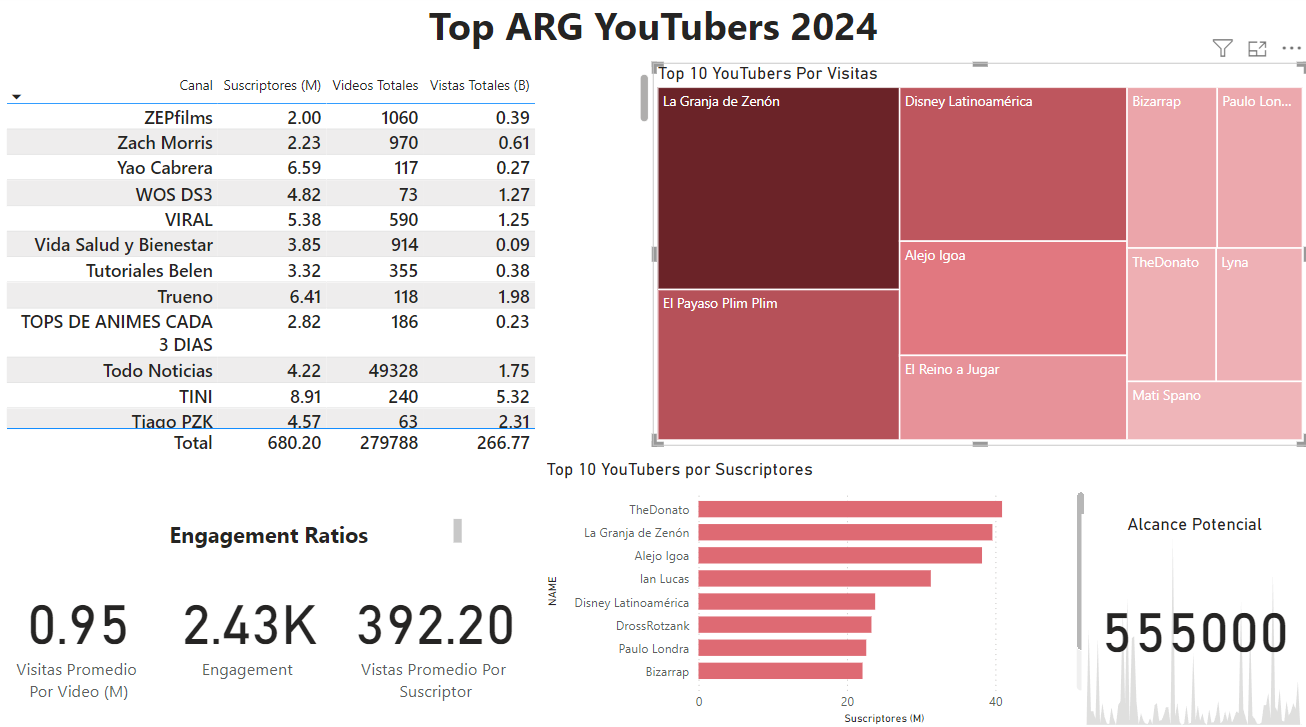

The dashboard page shown, as its layout file describes it:
{"tool":"powerbi","page":{"name":"Page 1","canvas":[1280,720],"ordinal":0},"visuals":[{"type":"textbox","box":[397.4,0,485.5,63.6],"z":0},{"type":"tableEx","fields":{"Values":["Limpio_view_top_100_ARG.NAME","Limpio_view_top_100_ARG.Suscriptores (M)","Limpio_view_top_100_ARG.Videos Totales","Limpio_view_top_100_ARG.Vistas Totales (B)"]},"box":[1.2,73.4,639.5,381.5],"z":1000},{"type":"treemap","title":"Top 10 YouTubers Por Visitas","fields":{"Group":["Limpio_view_top_100_ARG.NAME"],"Values":["Limpio_view_top_100_ARG.Vistas Totales (B)"]},"box":[639.5,67.3,640.8,374.2],"z":2000},{"type":"clusteredBarChart","title":"Top 10 YouTubers por Suscriptores","fields":{"Category":["Limpio_view_top_100_ARG.NAME"],"Y":["Limpio_view_top_100_ARG.Suscriptores (M)"]},"box":[530.7,454.9,536.8,265.4],"z":3000},{"type":"card","fields":{"Values":["Limpio_view_top_100_ARG.Avg vistas por videos (M)"]},"box":[0,522.1,156.5,198.1],"z":4000},{"type":"card","fields":{"Values":["Limpio_view_top_100_ARG.Engagement Rate"]},"box":[156.5,522.1,177.3,198.1],"z":5000},{"type":"card","fields":{"Values":["Limpio_view_top_100_ARG.Vistas Por Suscriptor"]},"box":[333.8,522.1,187.1,198.1],"z":6000},{"type":"kpi","title":"Alcance Potencial","fields":{"Indicator":["Limpio_view_top_100_ARG.POTENTIAL_REACH"],"TrendLine":["Limpio_view_top_100_ARG.NAME"]},"box":[1059,508.7,221.3,211.6],"z":7000},{"type":"textbox","box":[78.3,508.7,379.1,42.8],"z":8000}]}

Visuals, with their boxes in screenshot pixels (x1, y1, x2, y2), scaled from the page's 1280x720 canvas onto the 1306x727 screenshot:
textbox: <box>405,0,901,64</box>
tableEx - Limpio_view_top_100_ARG.NAME x Limpio_view_top_100_ARG.Suscriptores (M): <box>1,74,654,459</box>
"Top 10 YouTubers Por Visitas" treemap: <box>652,68,1305,446</box>
"Top 10 YouTubers por Suscriptores" clusteredBarChart: <box>541,459,1089,726</box>
card - Limpio_view_top_100_ARG.Avg vistas por videos (M): <box>0,527,160,726</box>
card - Limpio_view_top_100_ARG.Engagement Rate: <box>160,527,341,726</box>
card - Limpio_view_top_100_ARG.Vistas Por Suscriptor: <box>341,527,531,726</box>
"Alcance Potencial" kpi: <box>1081,514,1305,726</box>
textbox: <box>80,514,467,557</box>
